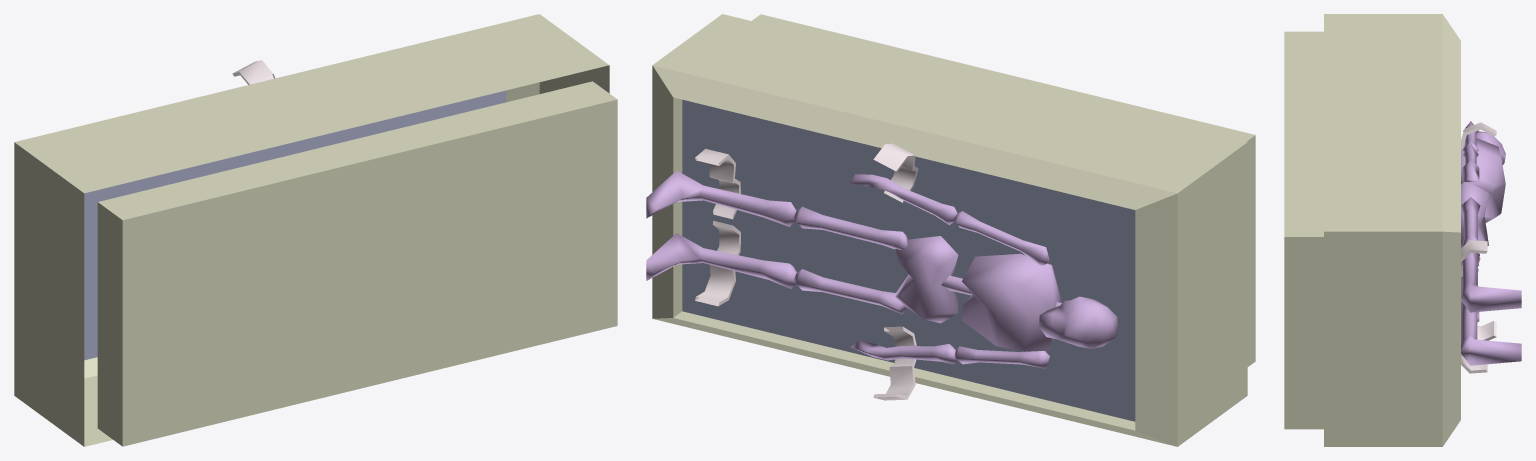
3 views of the same model, side by side, from view 1: azimuth 30°, elevation 25°; view 2: azimuth 150°, elevation 25°; view 3: azimuth 270°, elevation 25° (orthographic). The views are drawn at different scales.
Visible parts, largest first — view 1: Object19; view 2: Object19; view 3: Object19.
Boxes of the visible parts, x1,y1,x2,y2 form: Object19: [14, 14, 617, 446]; Object19: [646, 14, 1255, 446]; Object19: [1284, 14, 1521, 446].
Bounding box in the file's own units: 22898 × 10689 × 10547.
